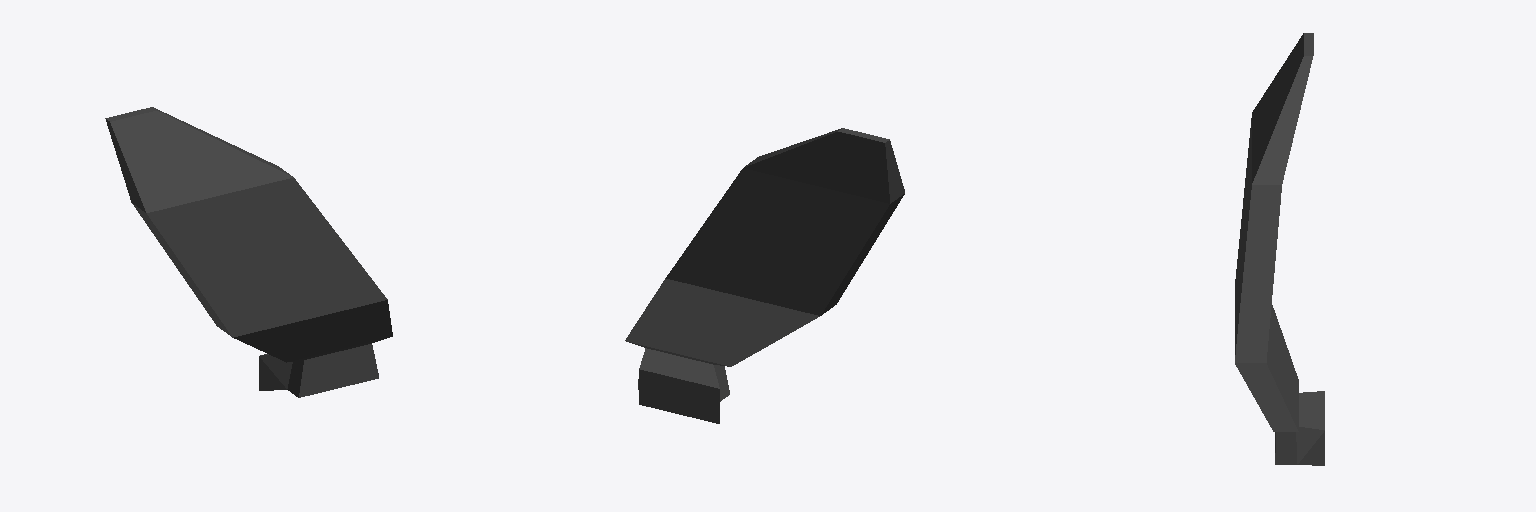
Rendered from bird_lArm.obj.
3 views of the same model, side by side, from view 1: azimuth 30°, elevation 25°; view 2: azimuth 150°, elevation 25°; view 3: azimuth 270°, elevation 25° (orthographic).
Visible parts, largest first — view 1: Cube.001_Cube.002; view 2: Cube.001_Cube.002; view 3: Cube.001_Cube.002.
Boxes of the visible parts, <box> form: Cube.001_Cube.002: <box>105,107,392,397</box>; Cube.001_Cube.002: <box>625,128,904,423</box>; Cube.001_Cube.002: <box>1235,33,1324,465</box>.
Size of the model in its own units: 4.33 by 4.88 by 1.27.